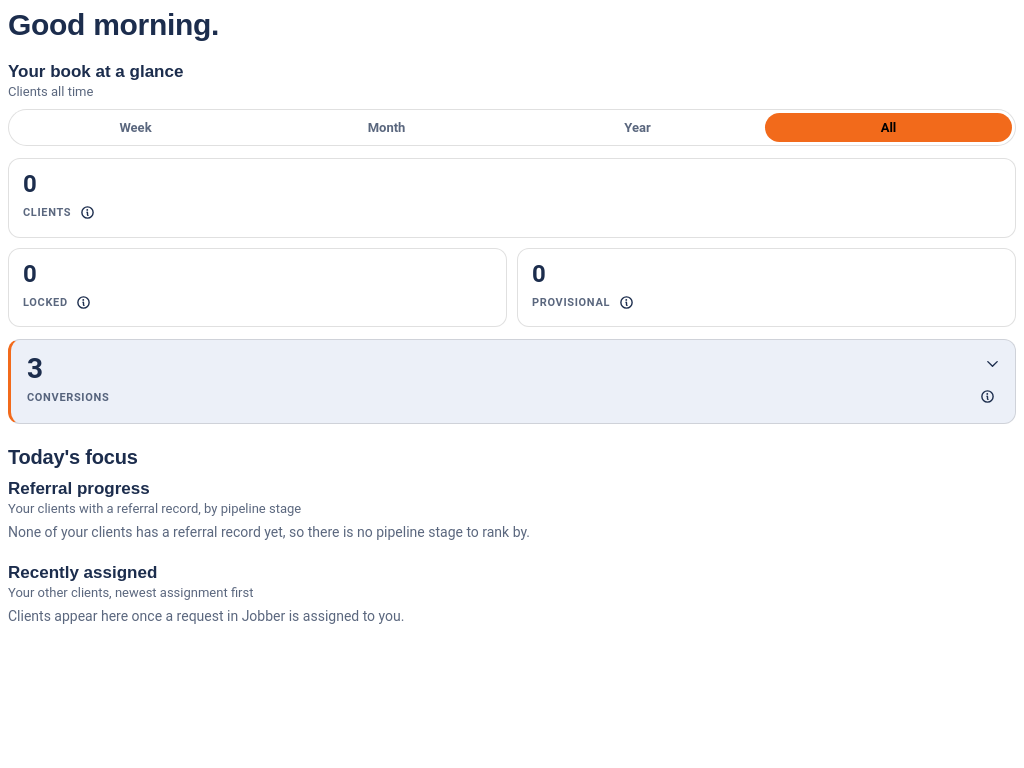
Canvass-8 — the conversions card › ⚠ the breakdown splits into Referral and Direct, both from the payload
Step 1. Click the button named "Conversions breakdown" → {"x": 992, "y": 363}, box [978,349,1006,377]
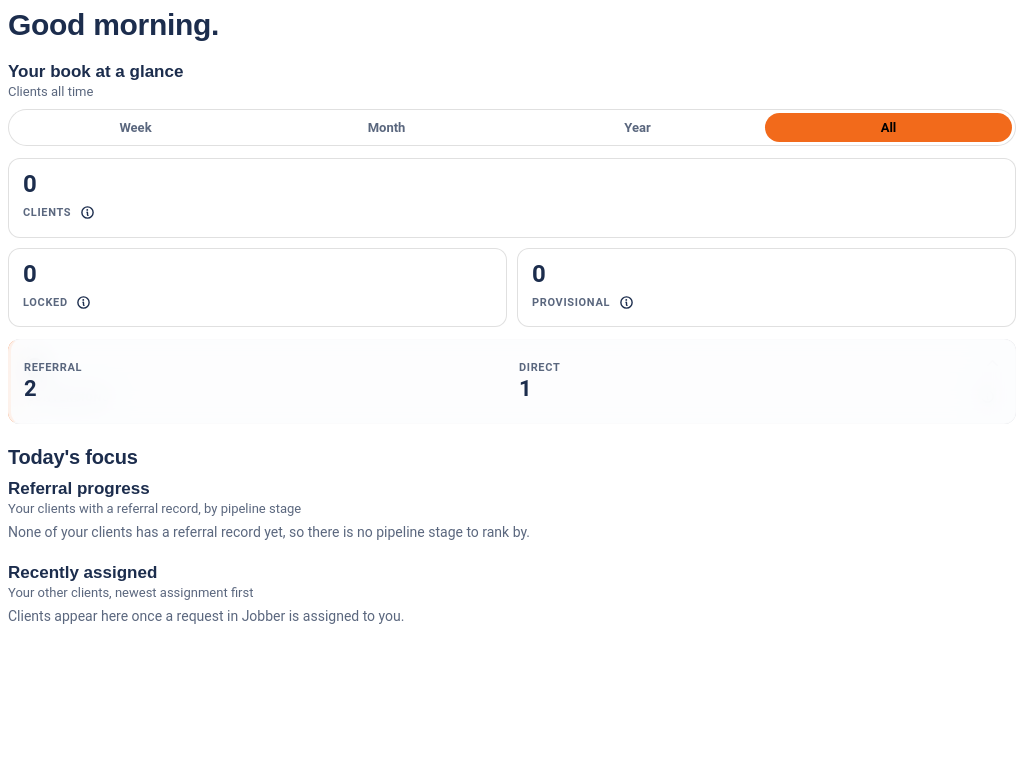
Now the element with test id "rep-conversions" shows "Referral", box [24,361,82,374]
Now the element with test id "rep-conversions" shows "Direct", box [519,361,560,374]
